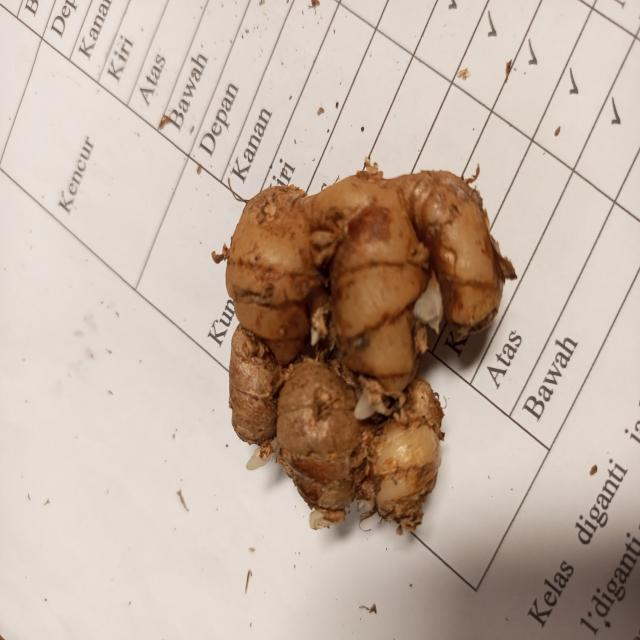ginger: (225, 174, 499, 526)
